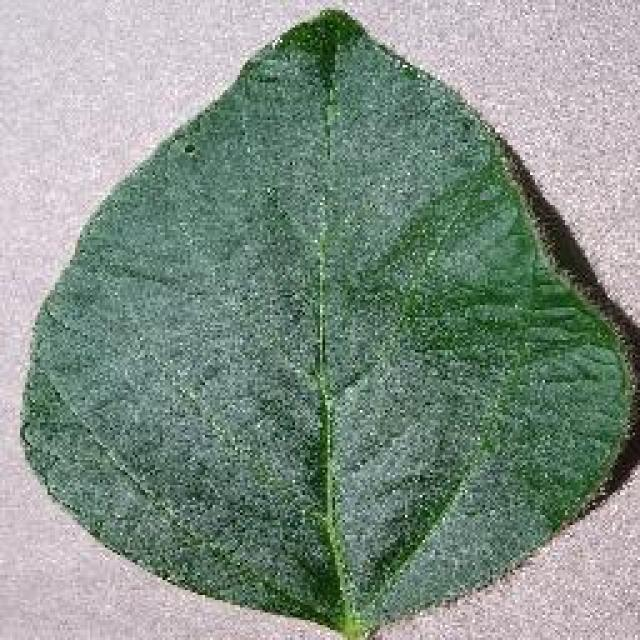Soy_healthy: (60, 36, 596, 604)
